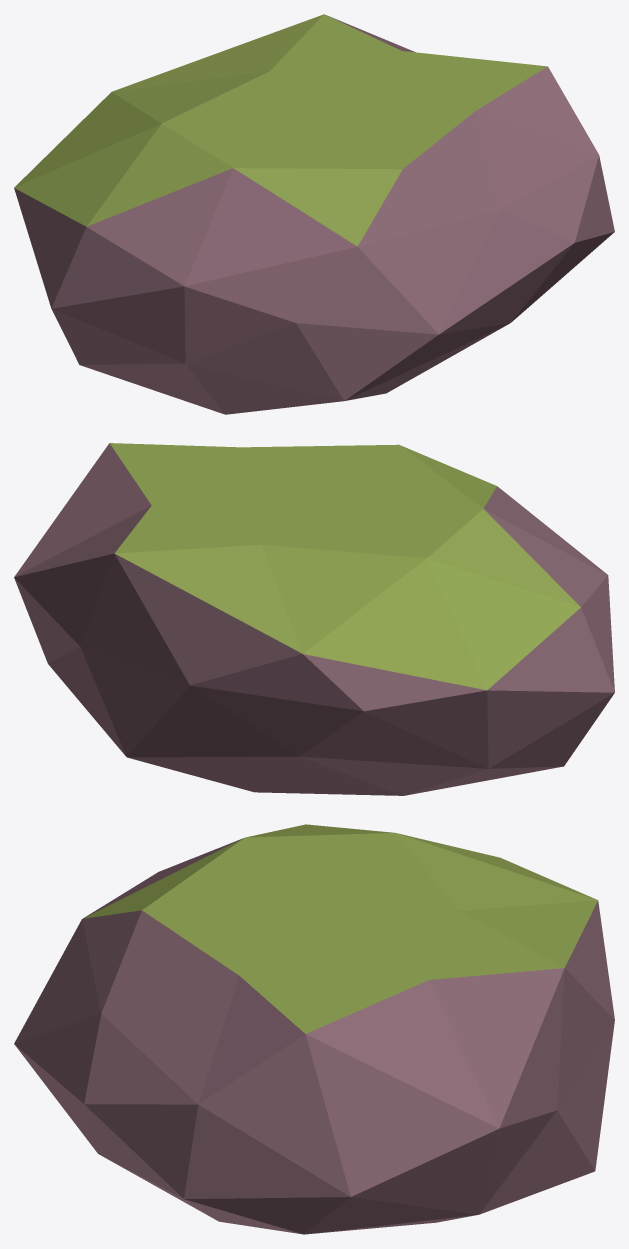
Rendered from islet.glb.
3 views of the same model, one above another, from view 1: azimuth 30°, elevation 25°; view 2: azimuth 150°, elevation 25°; view 3: azimuth 270°, elevation 25° (orthographic). The views are drawn at different scales.
Visible parts, largest first — view 1: Islet; view 2: Islet; view 3: Islet.
Part boxes in pixels (box(x1,y1,x2,y2)): Islet: box(14, 14, 614, 414); Islet: box(14, 443, 614, 795); Islet: box(14, 824, 614, 1234).
Bounding box in the file's own units: 3.18 × 1.44 × 2.55.
